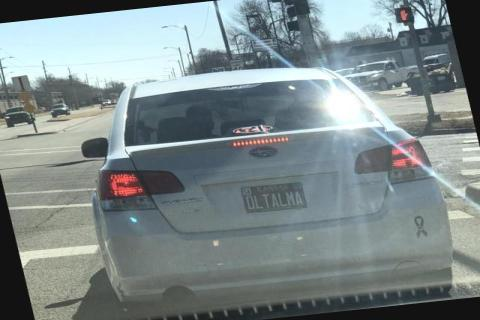LicensePlate: (238, 180, 309, 214)
